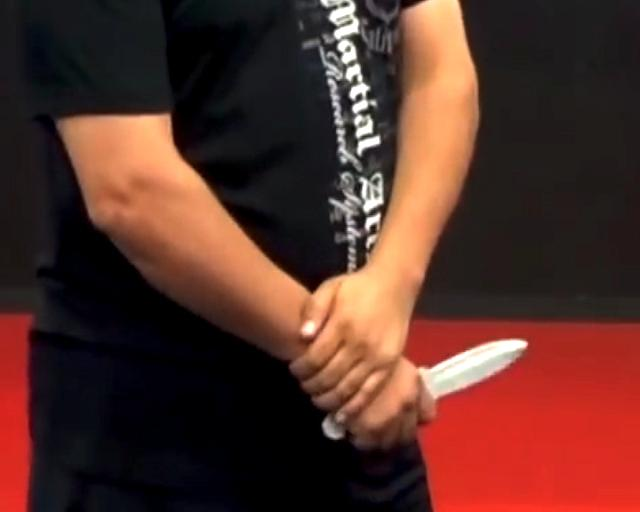pocket-knife: (321, 327, 535, 449)
